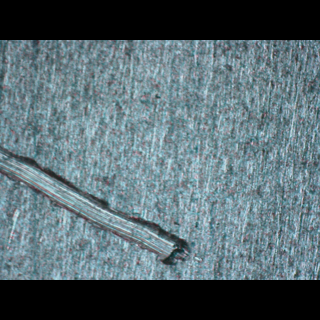d: (0, 143, 191, 266)
